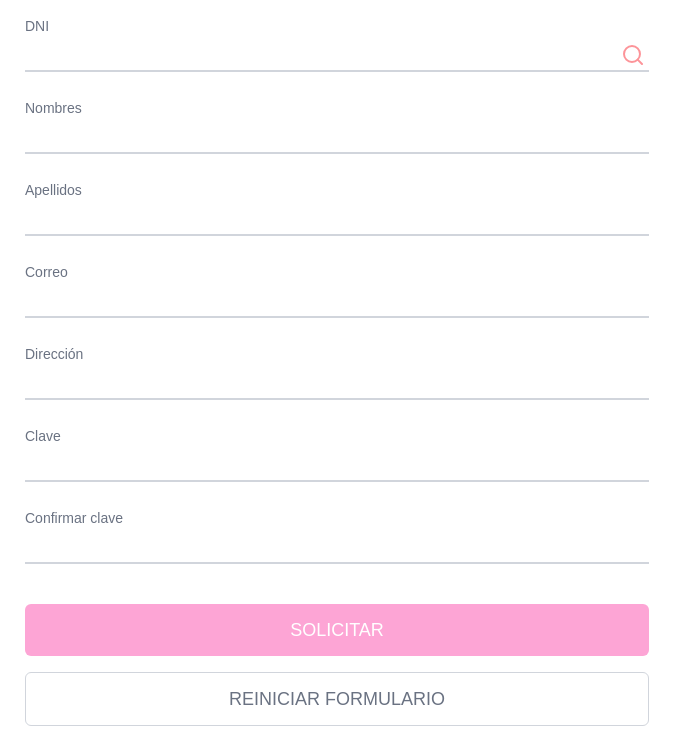
Test: Home Component › should show error for invalid DNI
Type "12345678" into the field below "DNI".
click(337, 55); type("12345678")  # box [25, 38, 649, 72]
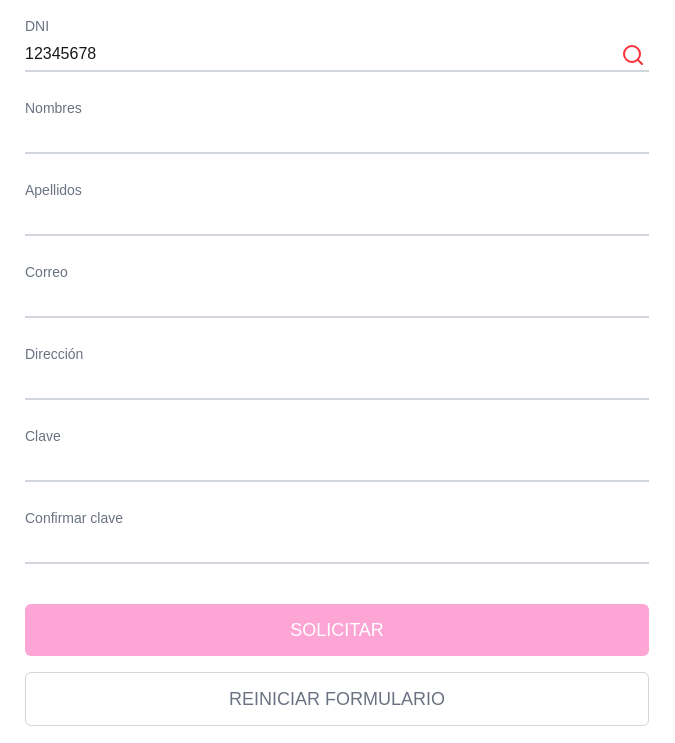
Click the 1st button.
click(633, 55)  # box [617, 39, 649, 71]
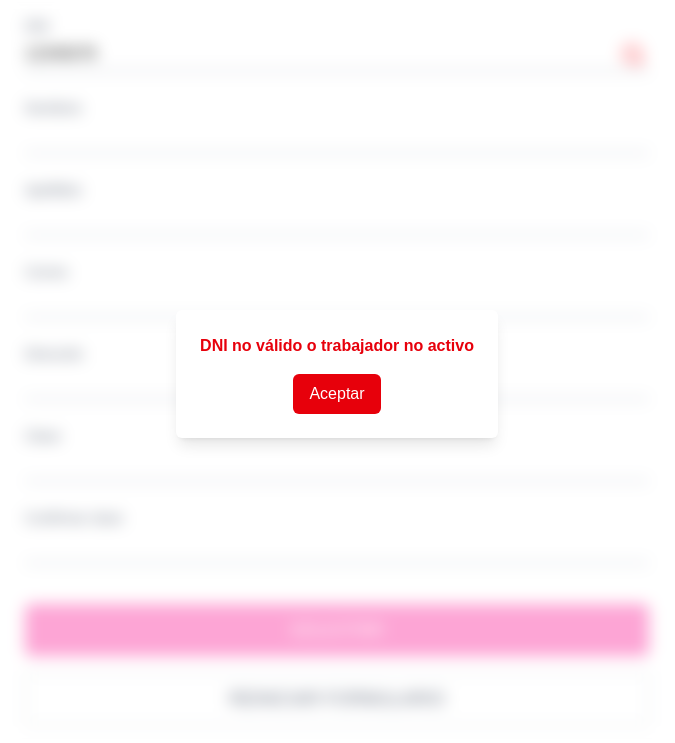
expect the text "DNI no válido o trabajador no activo" is shown: met, box [200, 334, 474, 358]
